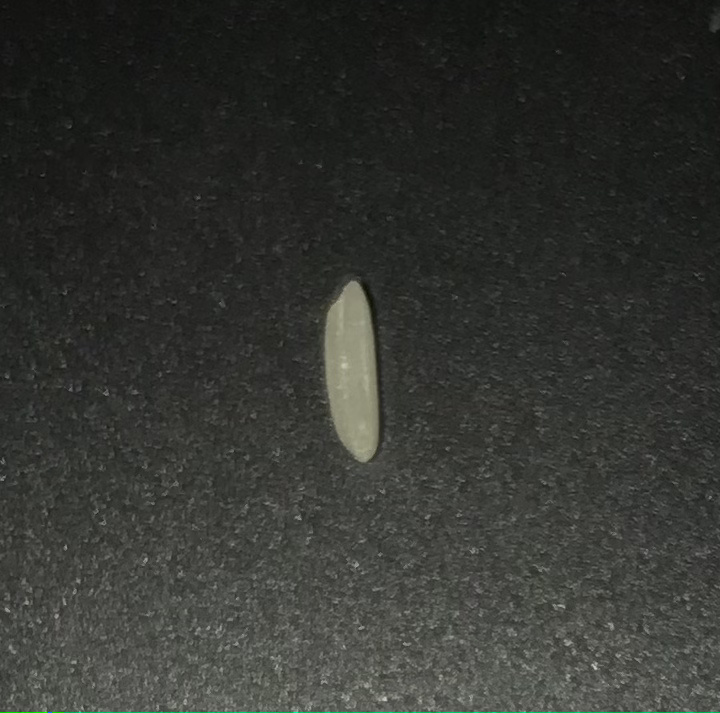Gao Tam Thom: (308, 274, 406, 470)
